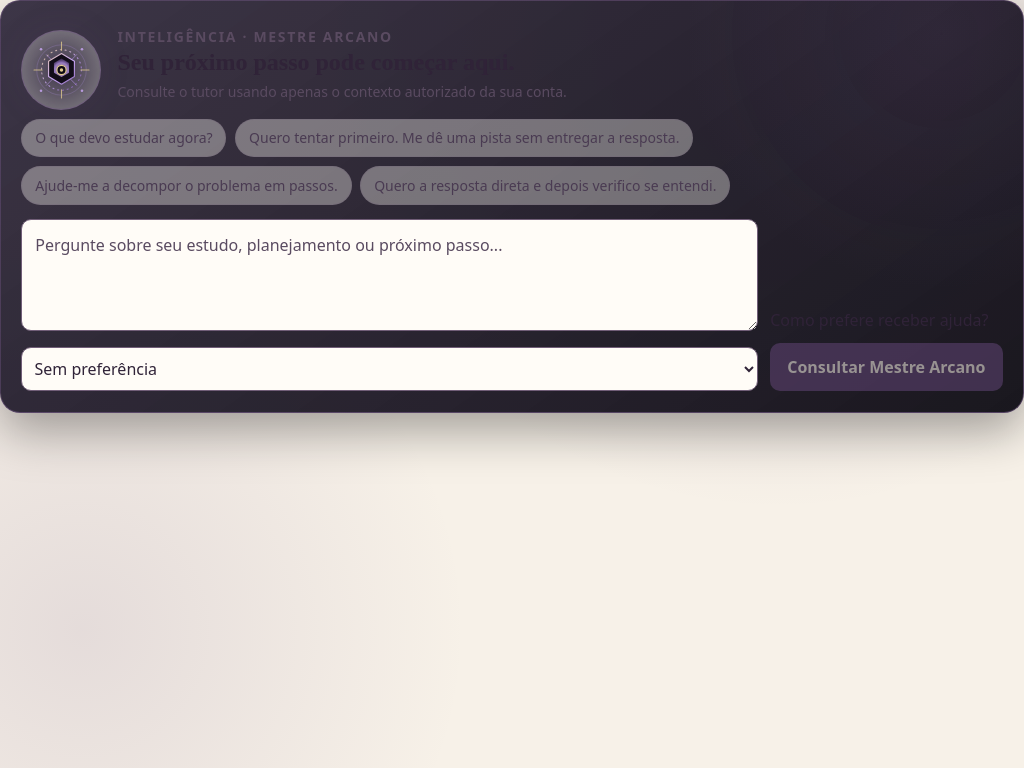
Scenario: MestreArcanoPanel › preserva o contrato legado ao voltar para sem preferência
Type "Explique o conceito." into the text box named "Mensagem para o Mestre Arcano" at (390, 275), box [22,219,758,331]
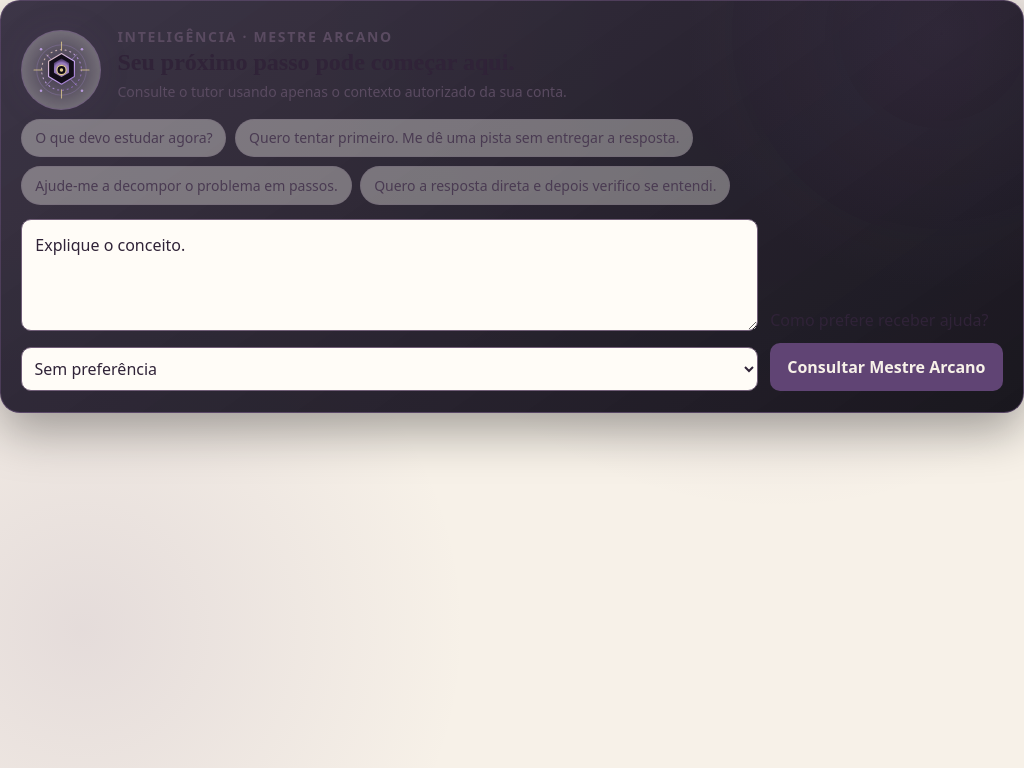
Select "Uma pista" in the dropdown labelled "Como prefere receber ajuda?" at (390, 369), box [22,347,758,391]
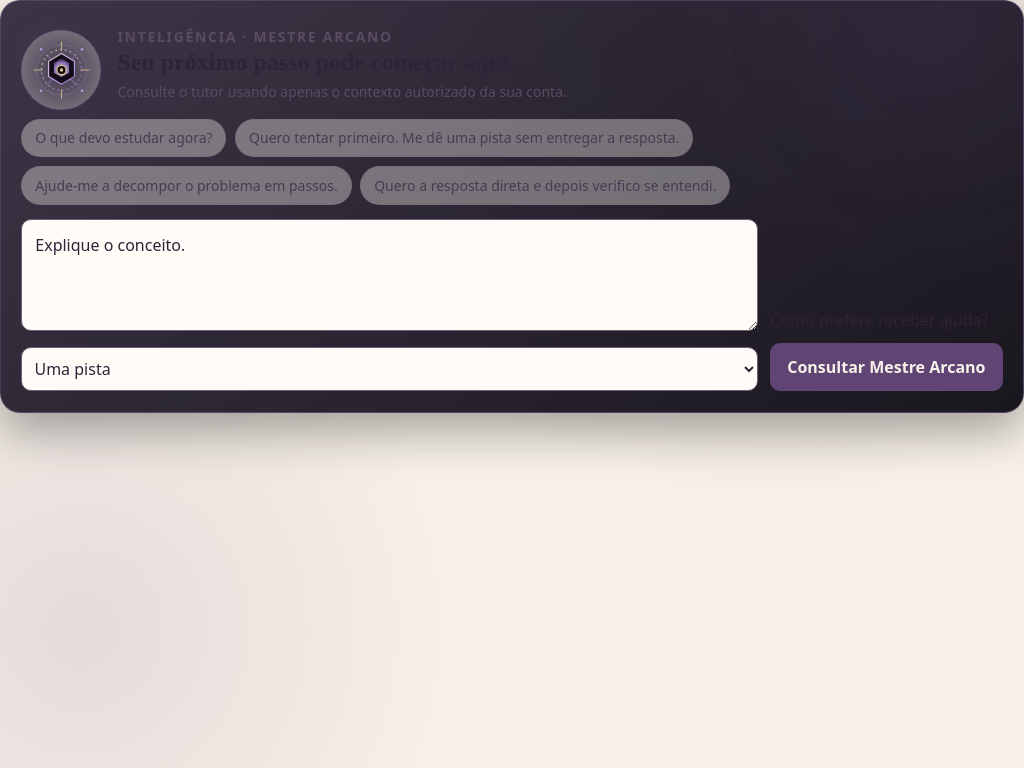
Select "Sem preferência" in the dropdown labelled "Como prefere receber ajuda?" at (390, 369), box [22,347,758,391]
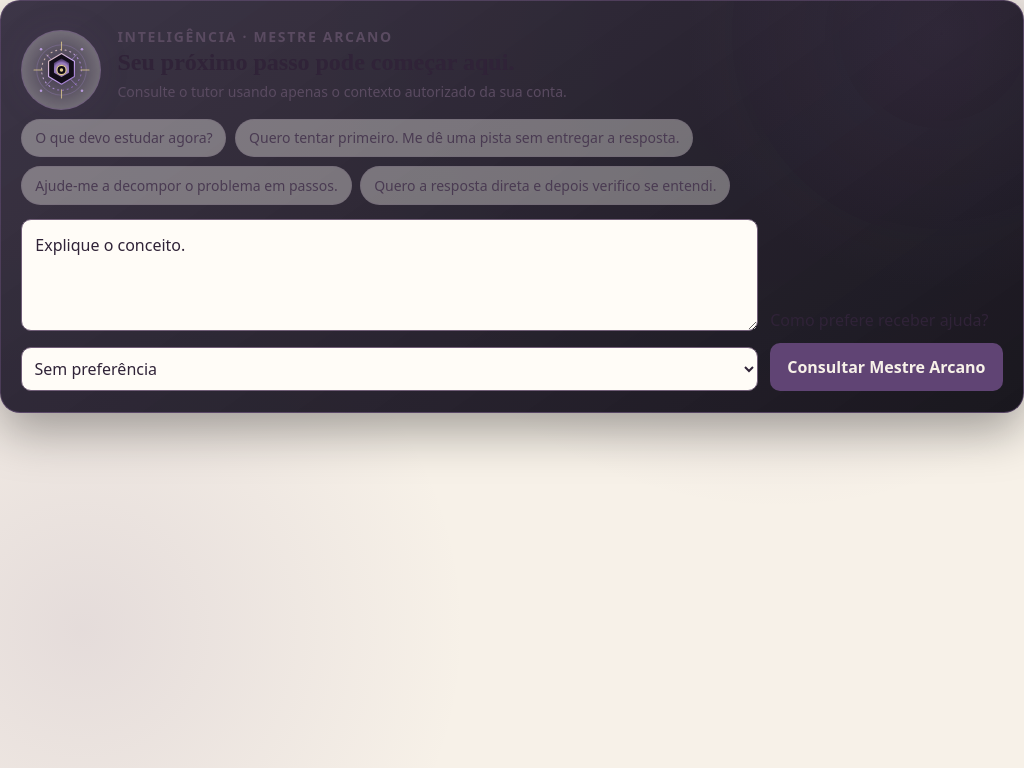
Click the button "Consultar Mestre Arcano" at (886, 367), box [770,343,1003,391]
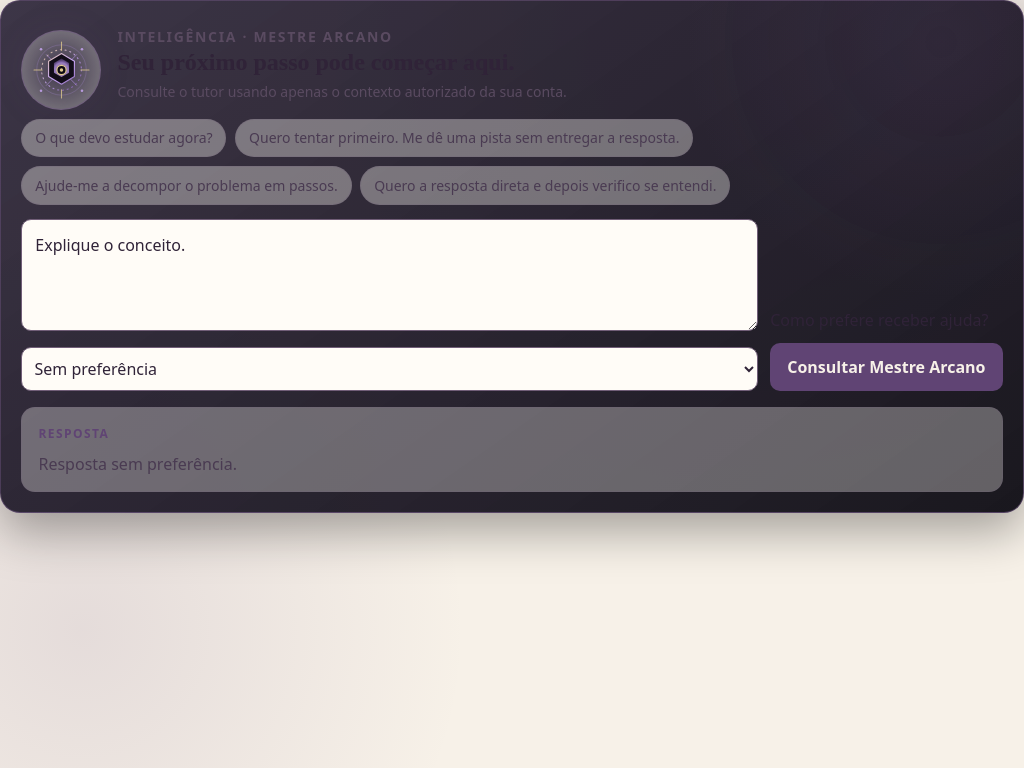
Expected: the text "Resposta sem preferência." is shown, [38,453,237,475]
